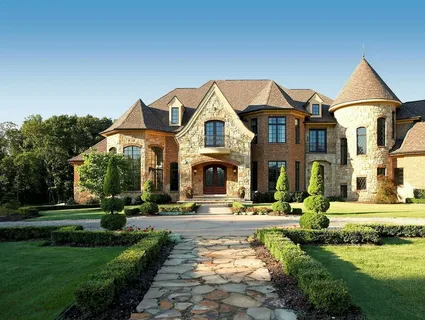private_hause: (118, 74, 401, 208)
